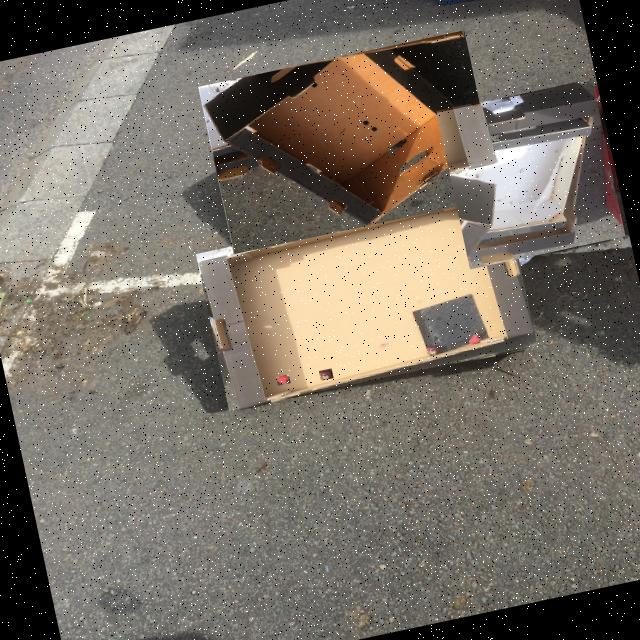Corrugated carton: (198, 192, 534, 408), (203, 50, 487, 226), (450, 83, 597, 265)
Food waste: (319, 370, 333, 380), (277, 376, 290, 384)
Unlabeled litter: (235, 52, 256, 68)
